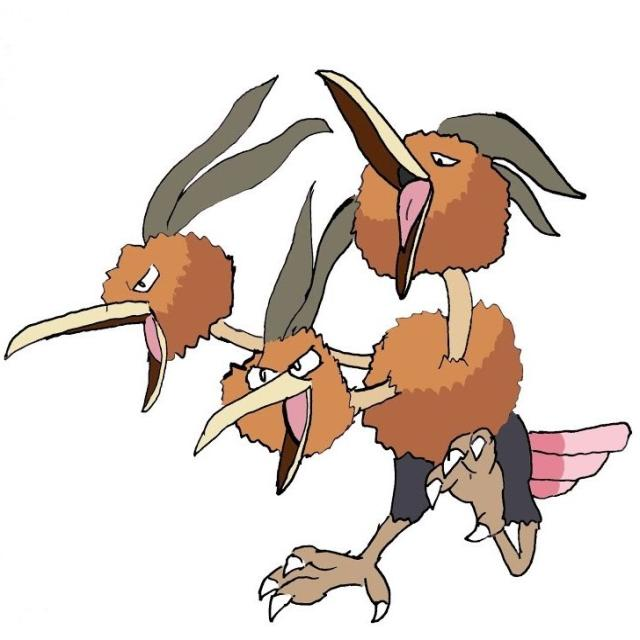Dodrio: (91, 118, 537, 495)
